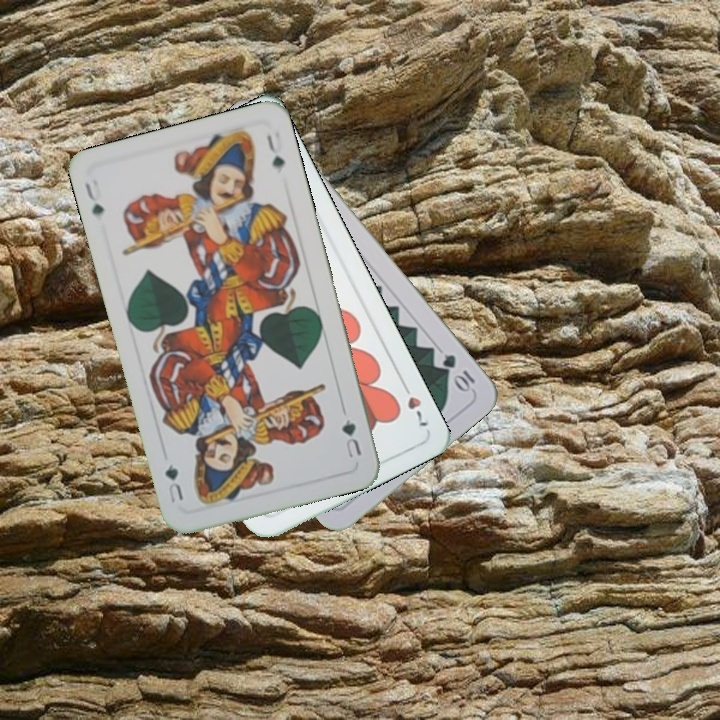G10: (438, 350, 478, 395)
GU: (337, 415, 365, 462), (81, 174, 107, 219)
H7: (397, 377, 432, 429)
